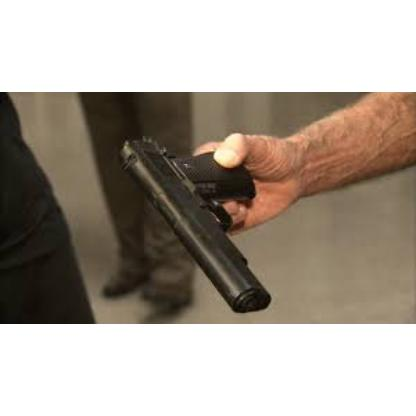gun: (116, 132, 278, 314)
